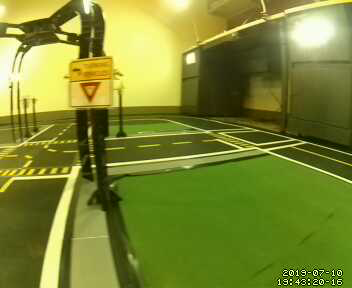Turn Yield: (68, 55, 114, 106)
